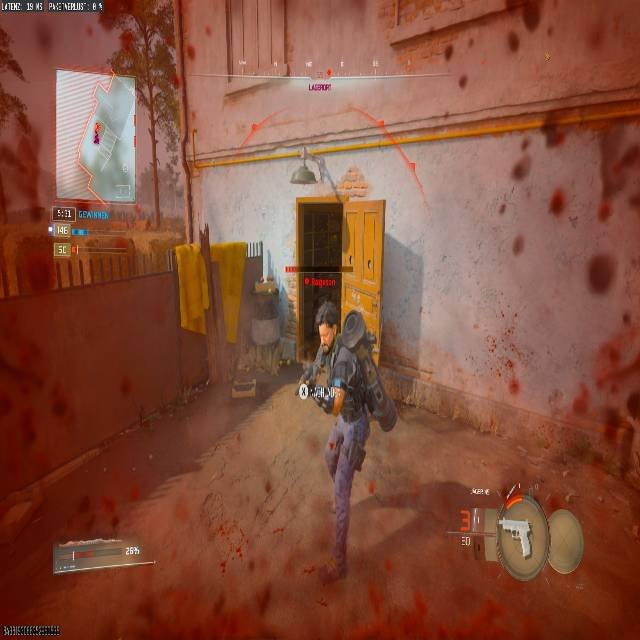head: (314, 298, 339, 348), (339, 309, 369, 346)
player: (298, 296, 397, 546)
